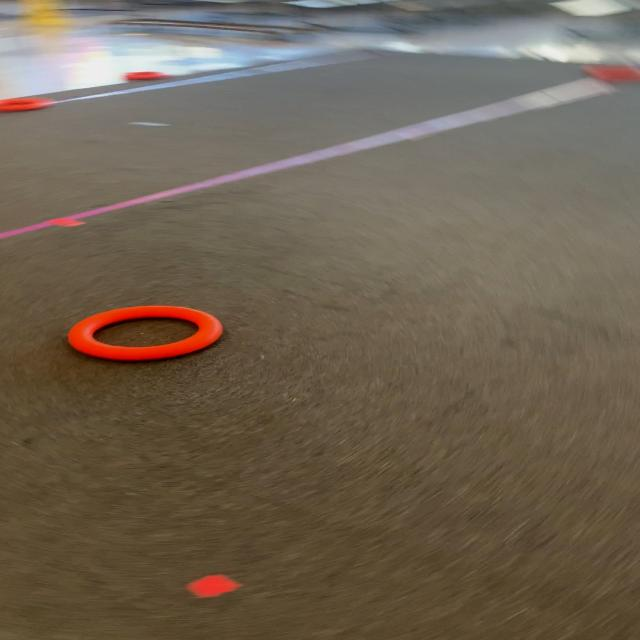notes: (71, 304, 225, 360), (591, 62, 640, 83), (0, 94, 50, 110), (124, 68, 168, 81)
